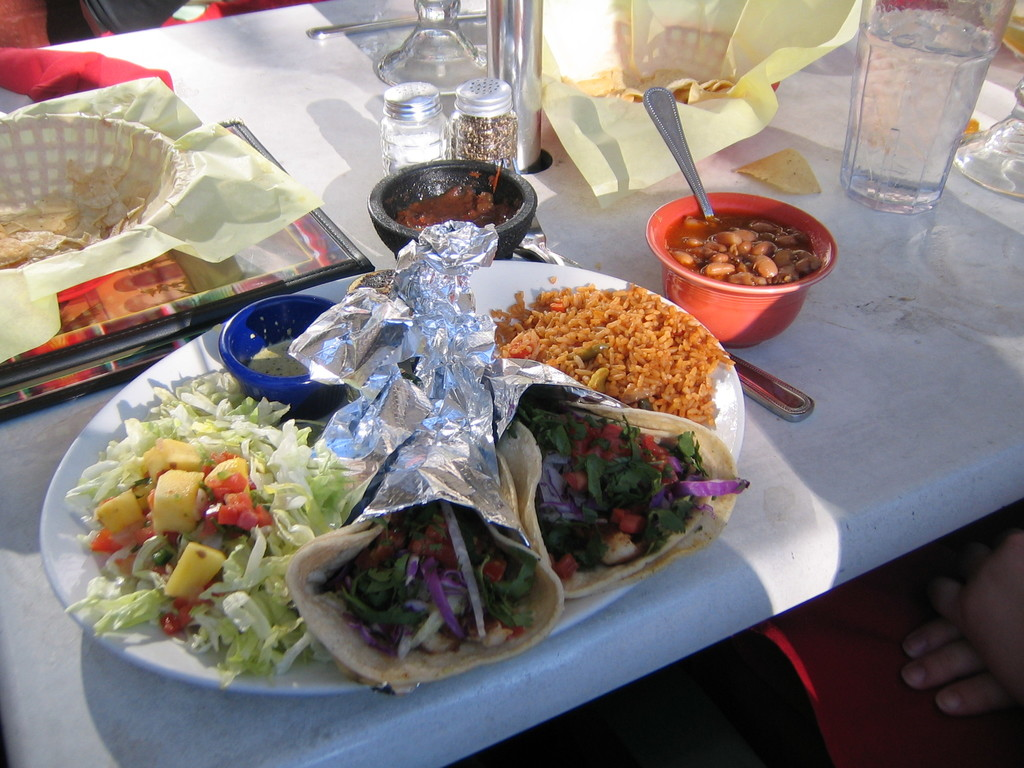taco: (277, 388, 571, 698), (497, 401, 750, 603)
